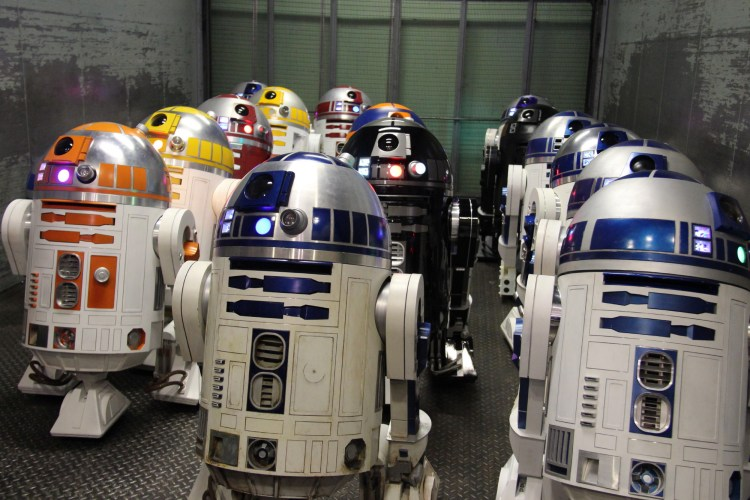r2d2: (187, 153, 436, 500), (514, 171, 749, 500), (4, 121, 174, 440), (367, 126, 479, 282)
